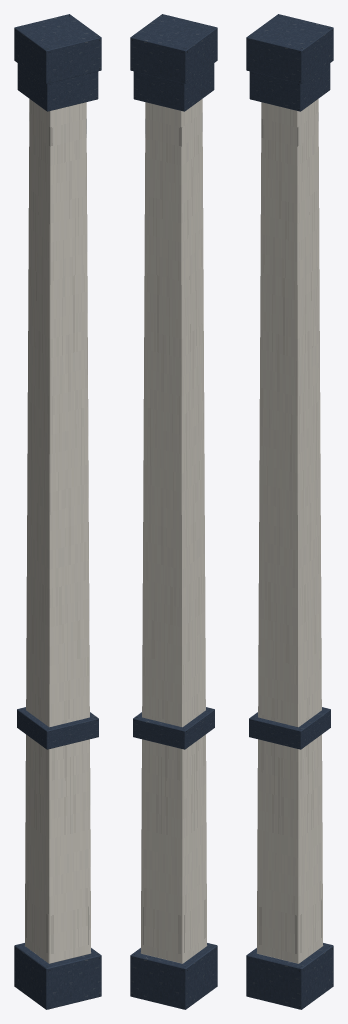
The model's file is house_05_porch_post.glb.
The picture shows the model from 3 angles, left to right: view 1: azimuth 30°, elevation 25°; view 2: azimuth 150°, elevation 25°; view 3: azimuth 330°, elevation 25°; orthographic projection.
Visible parts, largest first — view 1: house_05_porch_post; view 2: house_05_porch_post; view 3: house_05_porch_post.
Boxes of the visible parts, x1=… form: house_05_porch_post: x1=14, y1=14, x2=101, y2=1009; house_05_porch_post: x1=130, y1=14, x2=217, y2=1009; house_05_porch_post: x1=246, y1=14, x2=333, y2=1009.
Bounding box in the file's own units: 0.14 × 2.3 × 0.14.
2 materials, 2 textured.
